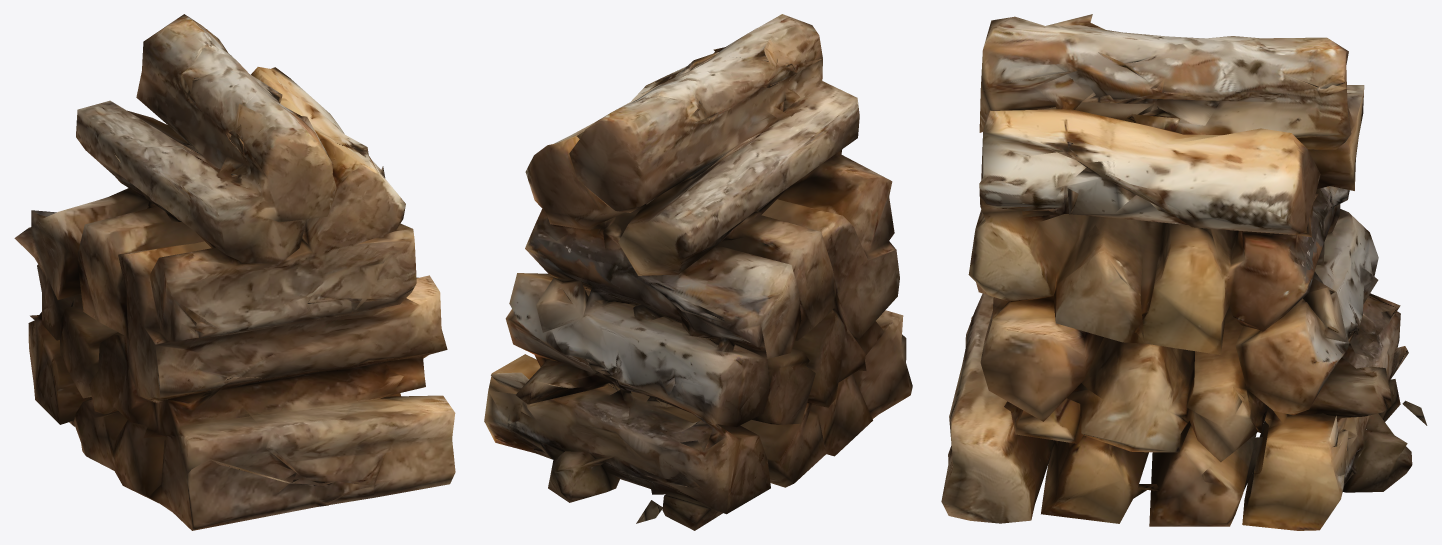
The model's file is kh_woodpile.glb.
3 renders of one model, left to right at view 1: azimuth 30°, elevation 25°; view 2: azimuth 150°, elevation 25°; view 3: azimuth 270°, elevation 25°, orthographic. The views are drawn at different scales.
Parts seen in each view (by area): view 1: tripo_node_e83d8850-de9e-4ff3-a12a-90c0c33b6589; view 2: tripo_node_e83d8850-de9e-4ff3-a12a-90c0c33b6589; view 3: tripo_node_e83d8850-de9e-4ff3-a12a-90c0c33b6589.
Boxes of the visible parts, left/top/right/bottom form: tripo_node_e83d8850-de9e-4ff3-a12a-90c0c33b6589: left=14, top=14, right=455, bottom=530; tripo_node_e83d8850-de9e-4ff3-a12a-90c0c33b6589: left=484, top=14, right=912, bottom=530; tripo_node_e83d8850-de9e-4ff3-a12a-90c0c33b6589: left=941, top=14, right=1427, bottom=530.
Size of the model in its own units: 0.7729 by 0.9691 by 1.
Materials: 1 (1 with a texture image).
